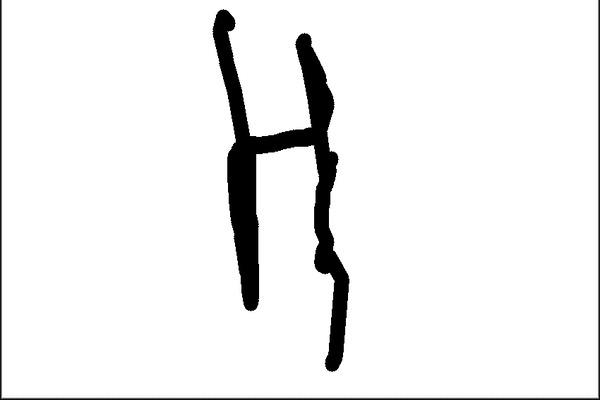H: (202, 6, 364, 382)
